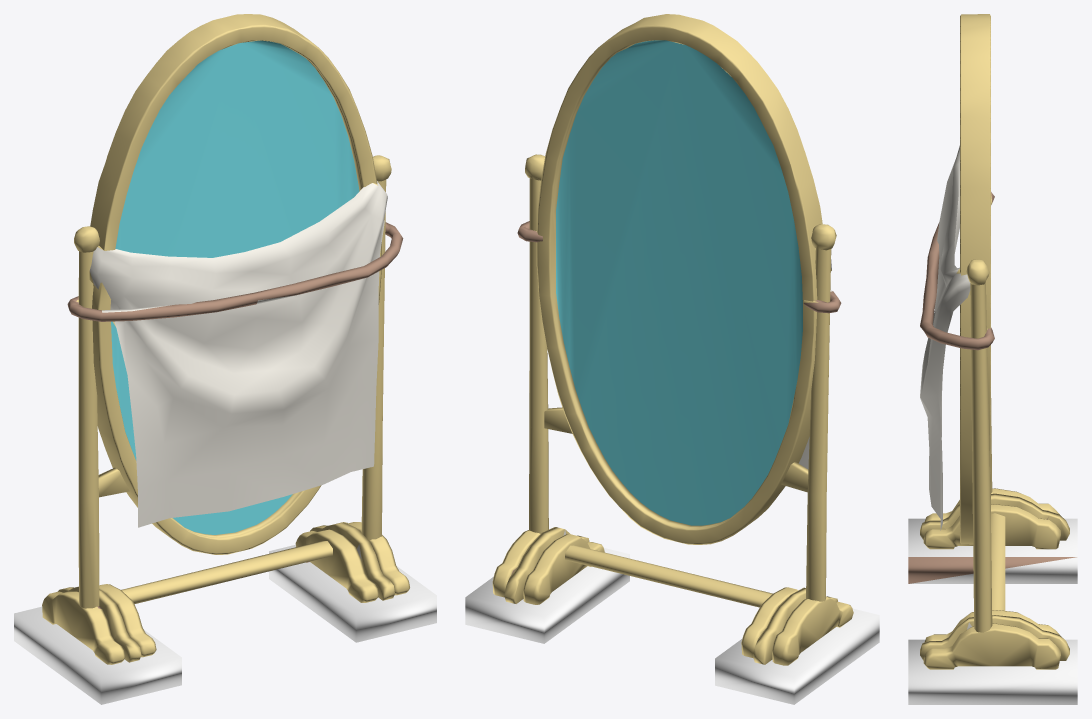
File: mirror_ovalh.glb
3 renders of one model, left to right at view 1: azimuth 30°, elevation 25°; view 2: azimuth 150°, elevation 25°; view 3: azimuth 270°, elevation 25°, orthographic. The views are drawn at different scales.
Parts seen in each view (by area): view 1: tripo_node_2911937d-441d-47f1-8c32-fbcc4d000b79; view 2: tripo_node_2911937d-441d-47f1-8c32-fbcc4d000b79; view 3: tripo_node_2911937d-441d-47f1-8c32-fbcc4d000b79.
Part boxes in pixels (<box>): tripo_node_2911937d-441d-47f1-8c32-fbcc4d000b79: <box>14,14,436,704</box>; tripo_node_2911937d-441d-47f1-8c32-fbcc4d000b79: <box>465,14,879,704</box>; tripo_node_2911937d-441d-47f1-8c32-fbcc4d000b79: <box>908,14,1077,704</box>.
Size of the model in its own units: 0.5684 by 0.998 by 0.2559.
